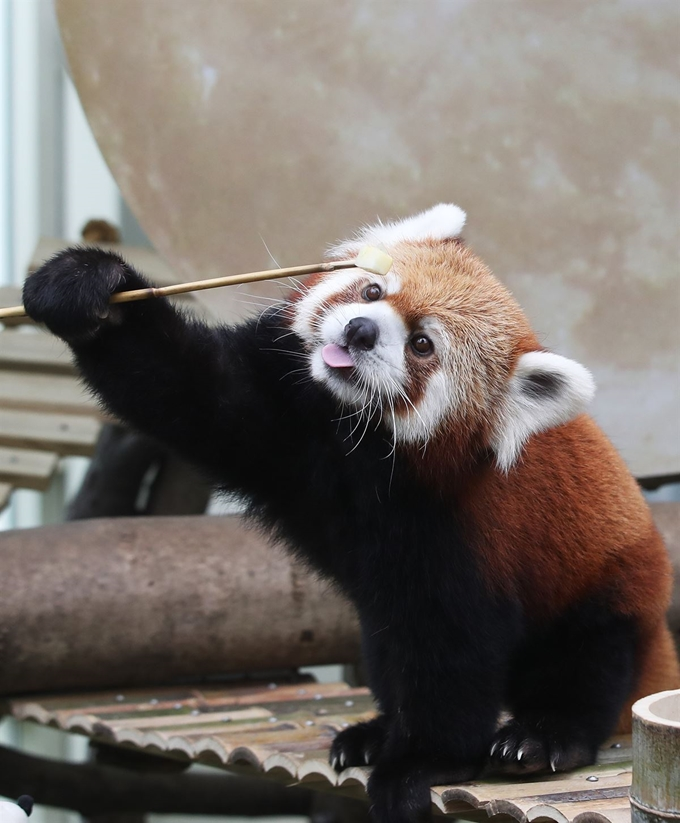redPanda: (32, 204, 649, 762)
